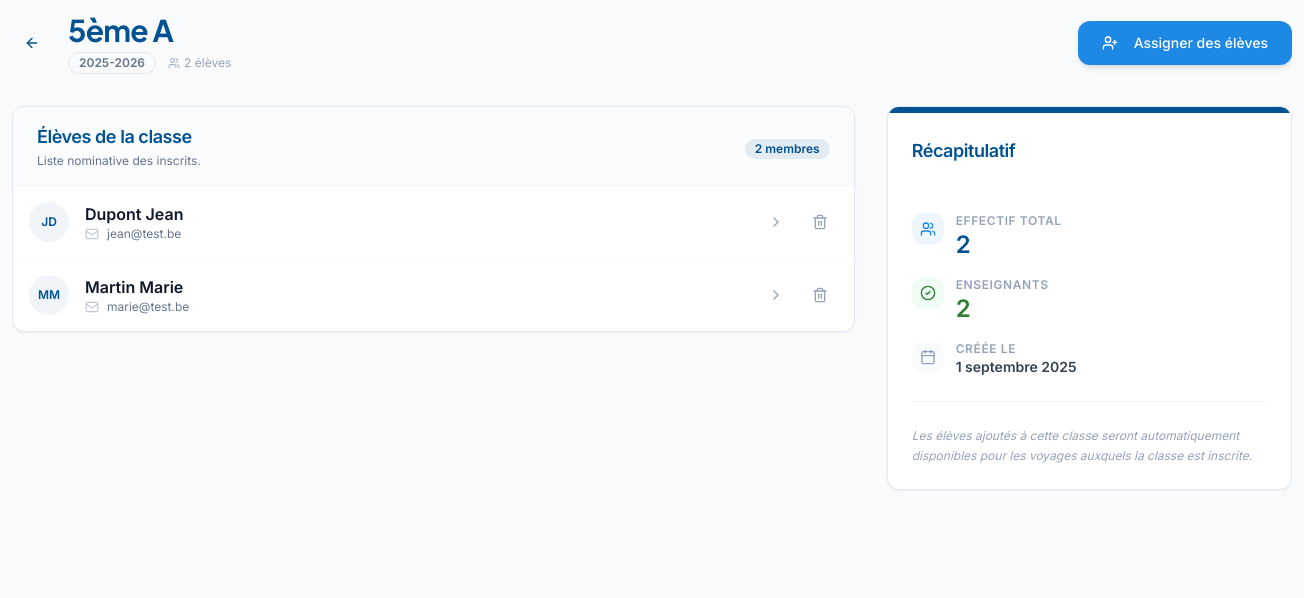
Test: ClassDetailScreen › closes assigning panel when Annuler clicked
Expected: the heading "5ème A" is shown, 68,11 -> 173,49
Click the button "Assigner des élèves" at (1185,43), box 1078,21 -> 1292,65
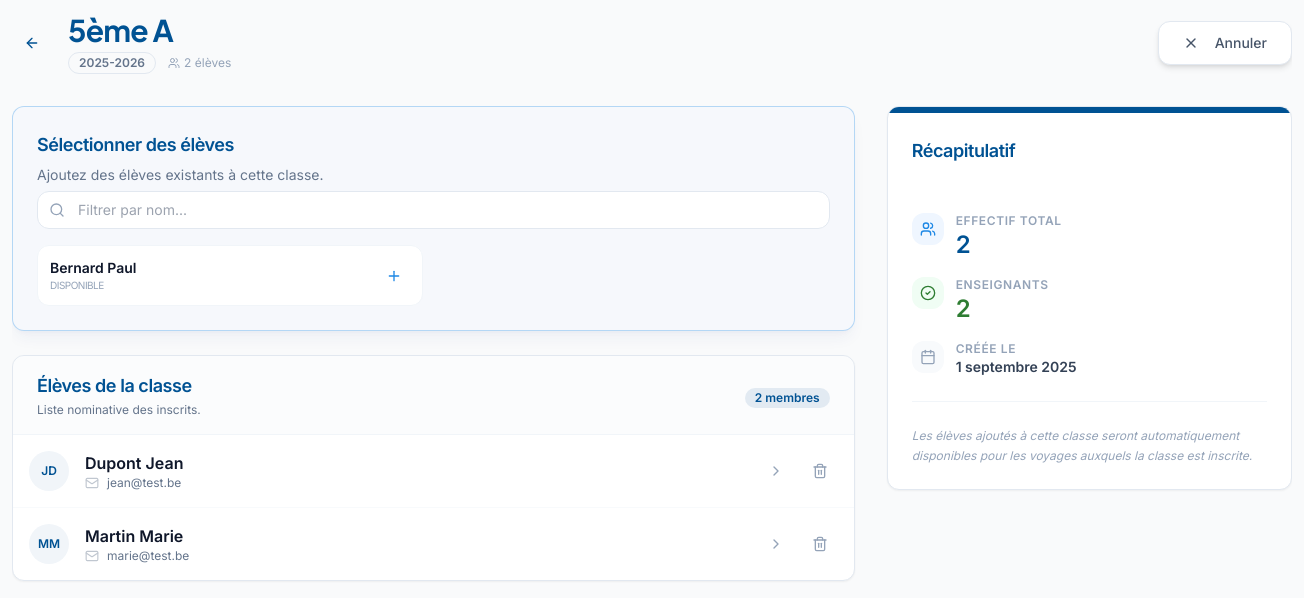
Expected: the text "Sélectionner des élèves" is shown, 37,134 -> 234,155
Click the button "Annuler" at (1225,43), box 1158,21 -> 1292,65
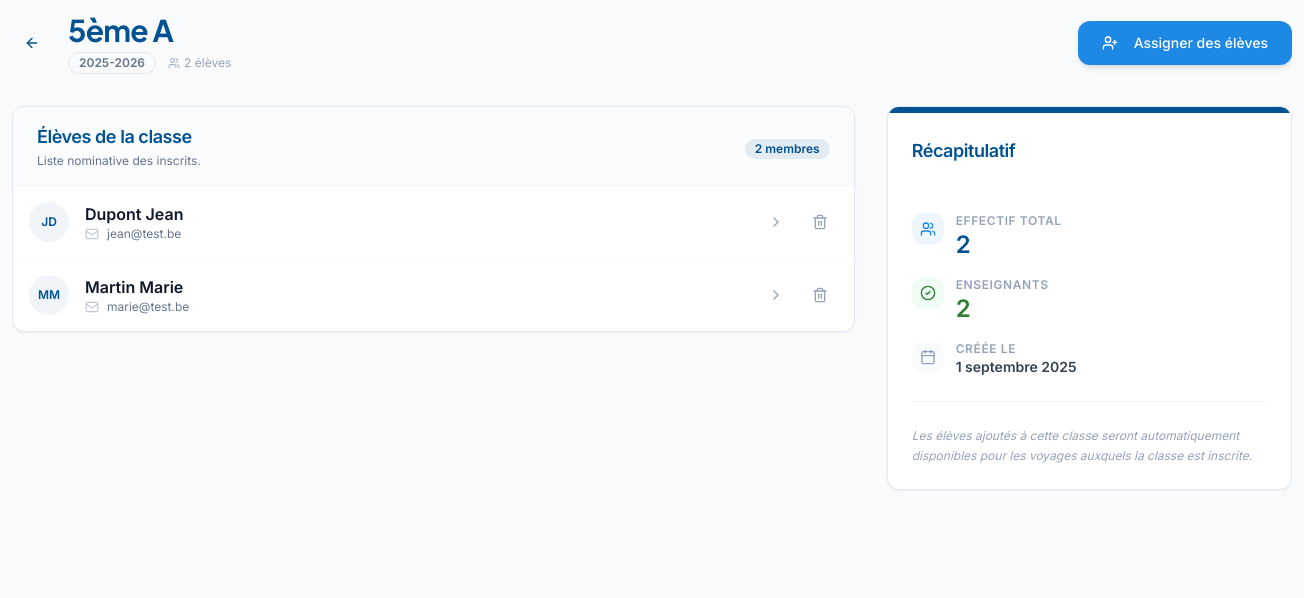
Expected: the text "Sélectionner des élèves" is gone
